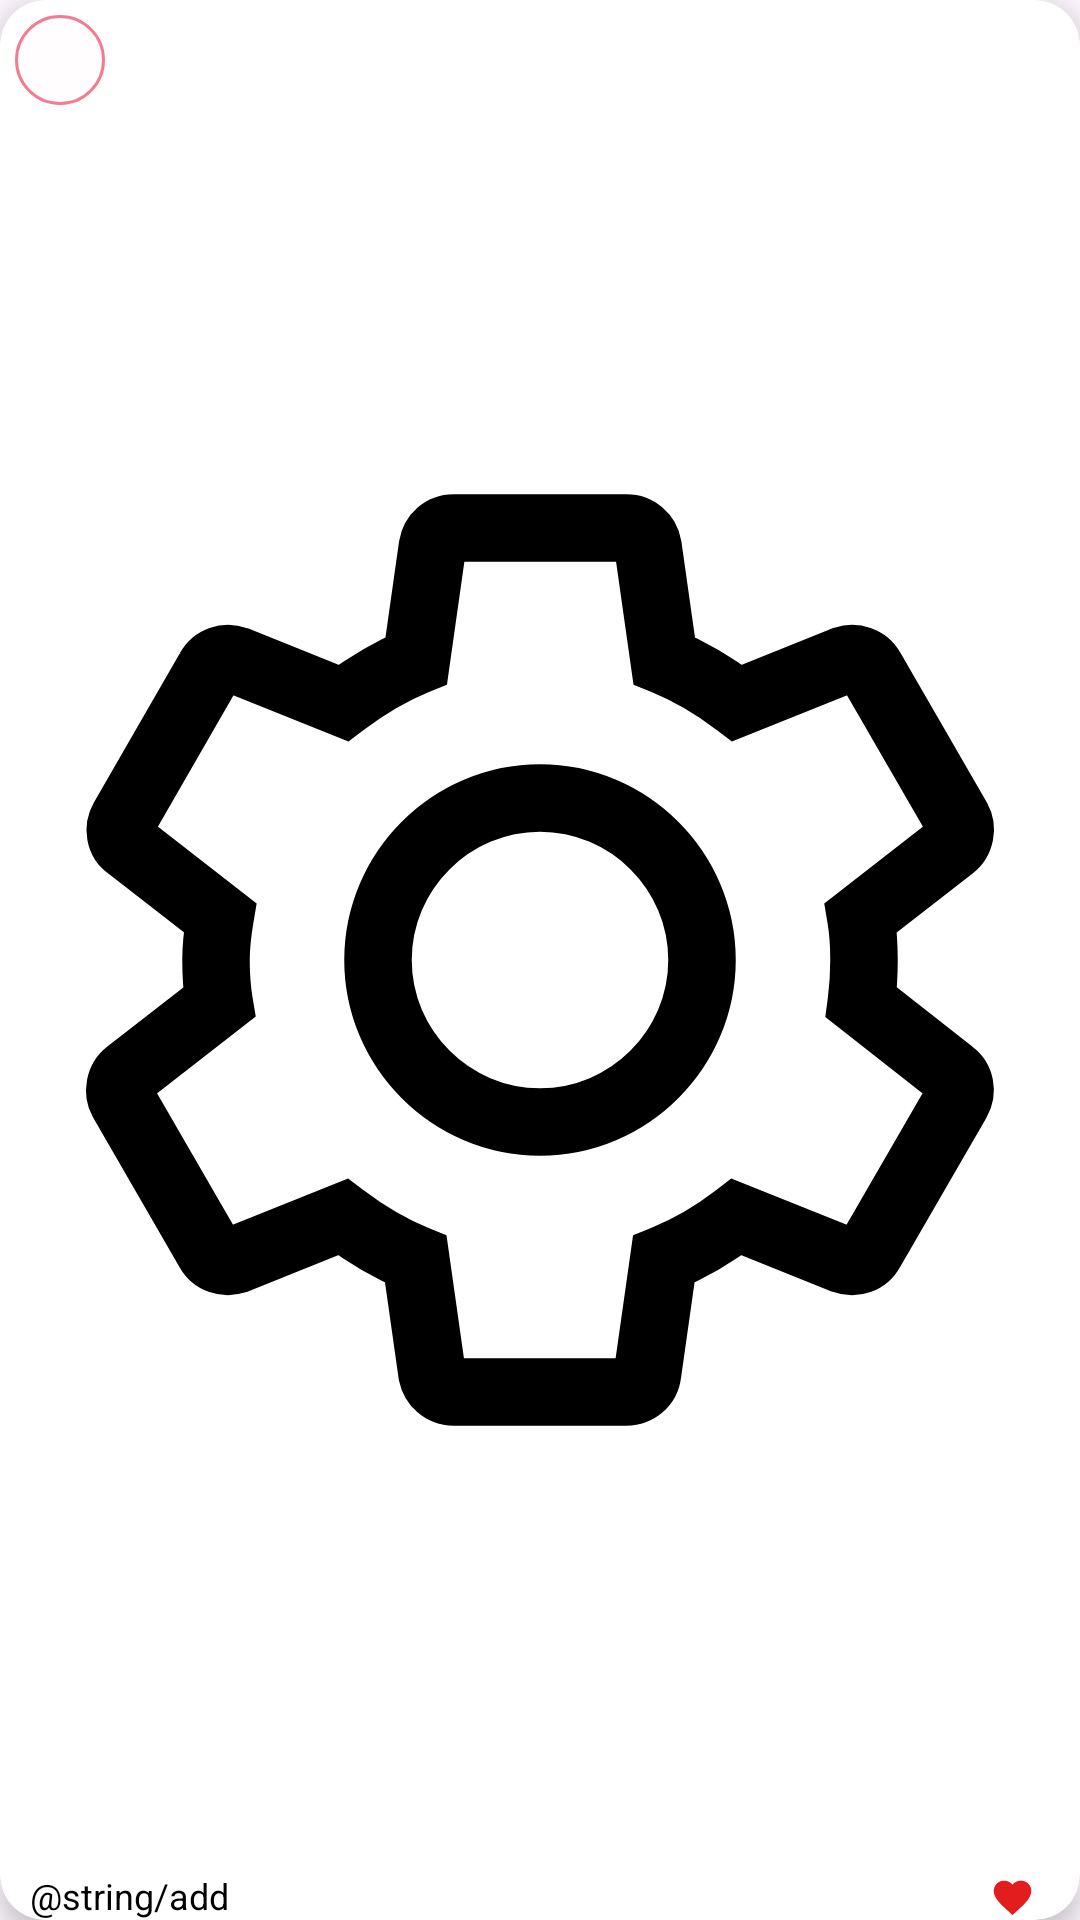

Locate icon controls on the screen. Image size 1080 x 1920, boxes as bbox=(x1, y1, x2, y2).
favourite: bbox=(993, 1880, 1032, 1915)
